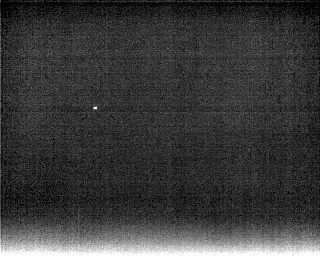BIRD: (91, 104, 99, 112)
